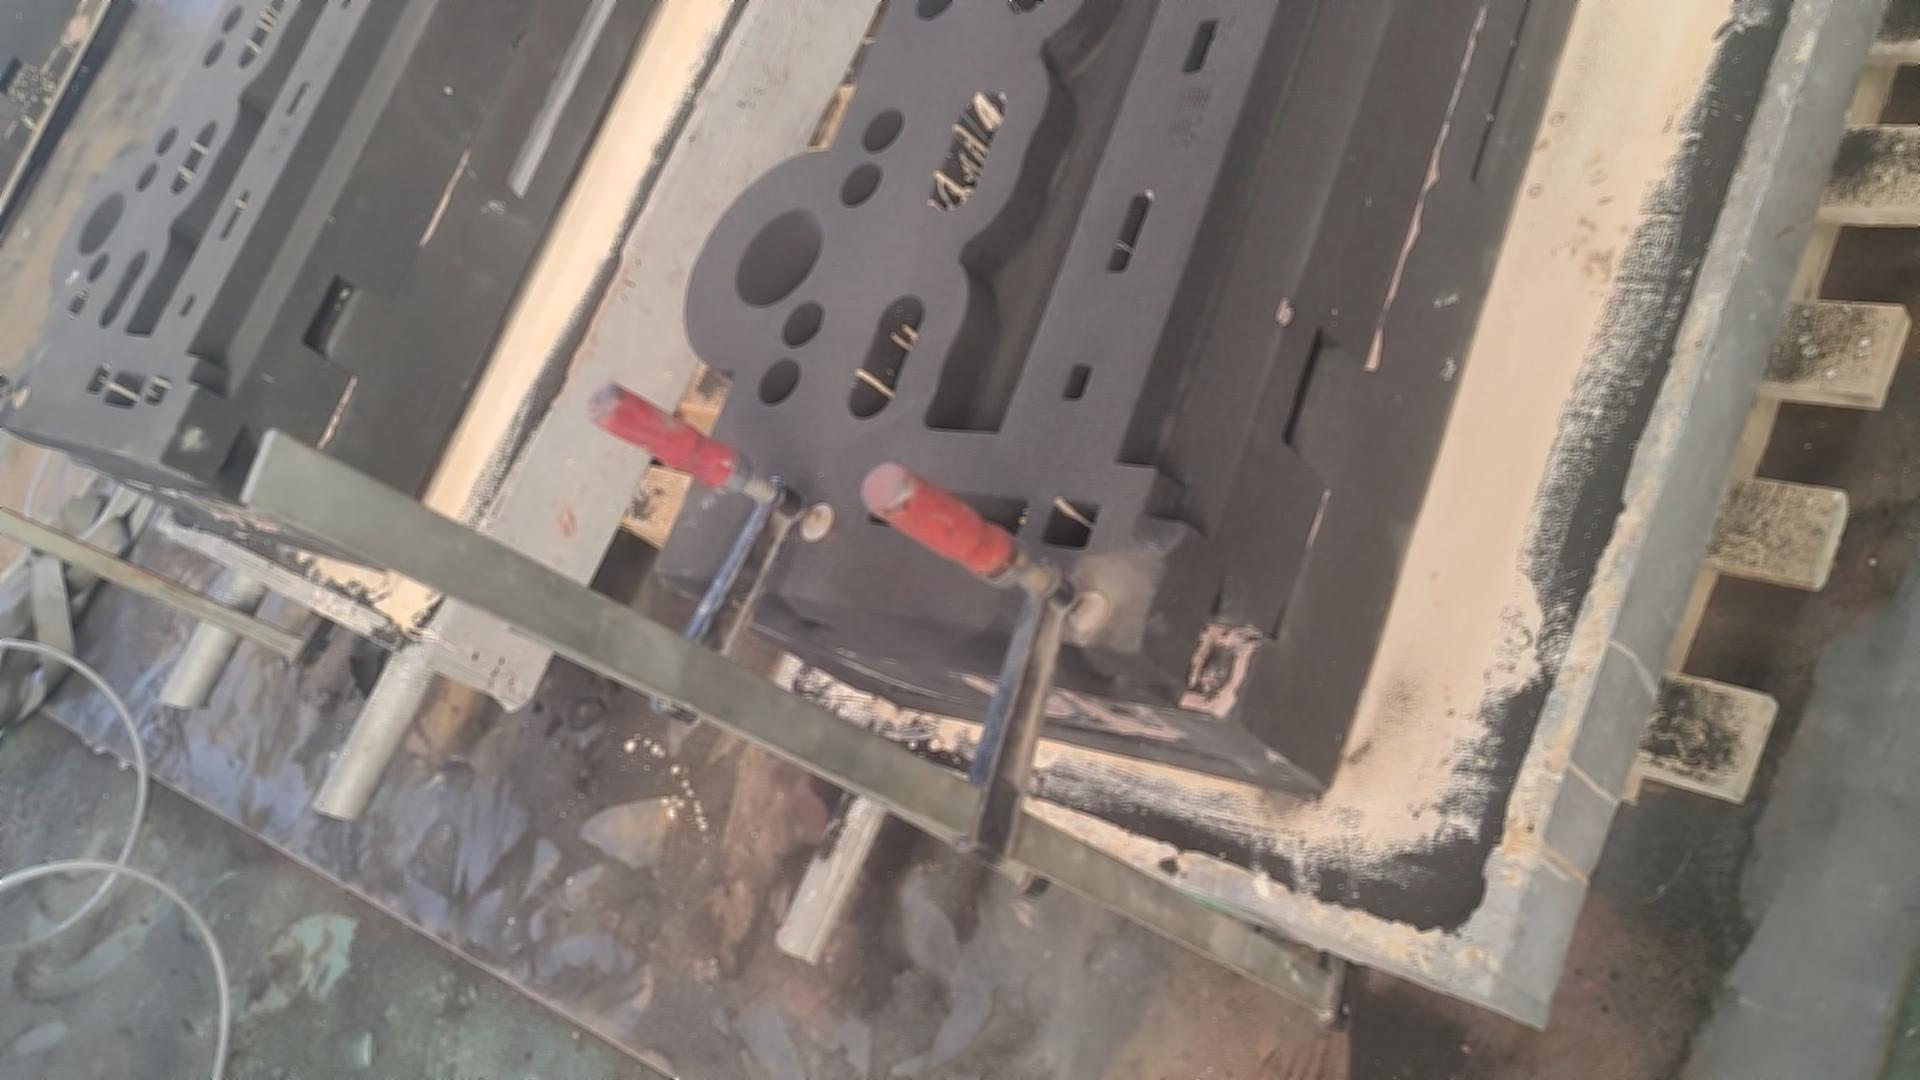pouring hole: (729, 203, 823, 309), (75, 191, 128, 256)
